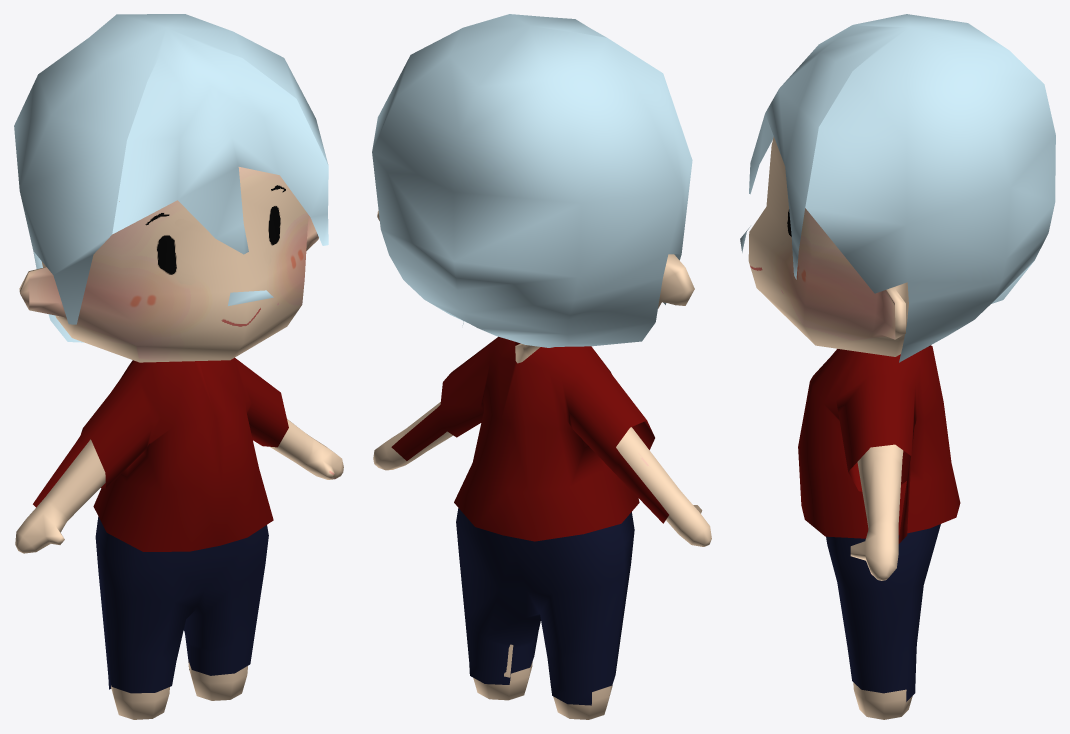
File: pak.glb
The picture shows the model from 3 angles, left to right: view 1: azimuth 30°, elevation 25°; view 2: azimuth 150°, elevation 25°; view 3: azimuth 270°, elevation 25°; orthographic projection. The views are drawn at different scales.
Visible parts, largest first — view 1: Chibi_base.012, Chibi_base.011, Chibi_base.010, Chibi_base.001; view 2: Chibi_base.012, Chibi_base.010, Chibi_base.001, Chibi_base.011; view 3: Chibi_base.012, Chibi_base.010, Chibi_base.011, Chibi_base.001.
Part boxes in pixels (x1,y1,x2,y2): Chibi_base.012: [14, 14, 328, 342]; Chibi_base.011: [15, 167, 343, 719]; Chibi_base.010: [33, 357, 288, 551]; Chibi_base.001: [95, 516, 268, 693]; Chibi_base.012: [372, 14, 692, 347]; Chibi_base.010: [391, 336, 668, 541]; Chibi_base.001: [456, 508, 634, 705]; Chibi_base.011: [373, 210, 711, 719]; Chibi_base.012: [740, 14, 1055, 362]; Chibi_base.010: [798, 345, 960, 543]; Chibi_base.011: [748, 136, 912, 719]; Chibi_base.001: [826, 524, 940, 701].
Bounding box in the file's own units: 1.68 × 3.3 × 1.41.
4 materials, 1 textured.
